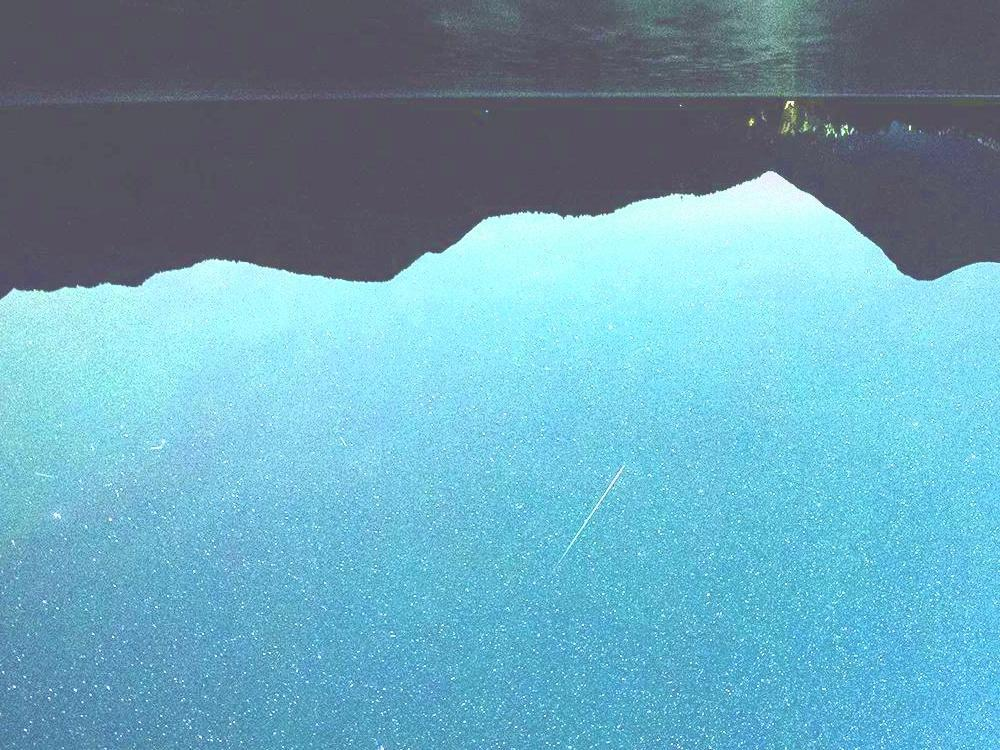meteorite: (536, 457, 689, 575)
